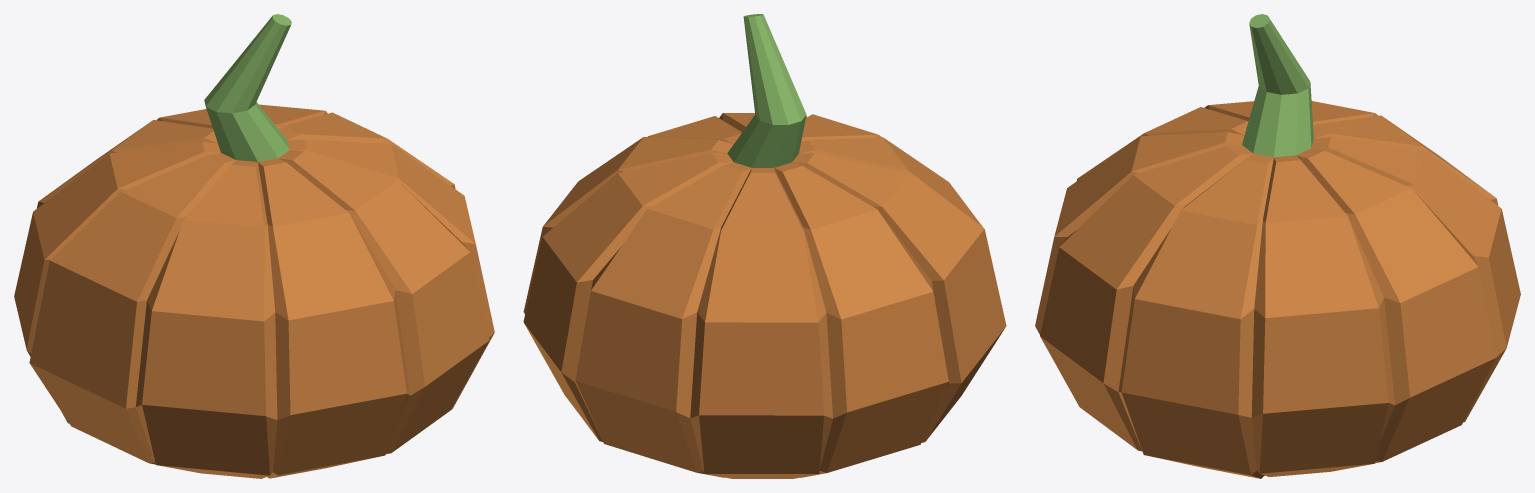
The model's file is pumpkin_crop.glb.
The picture shows the model from 3 angles, left to right: view 1: azimuth 30°, elevation 25°; view 2: azimuth 150°, elevation 25°; view 3: azimuth 270°, elevation 25°; orthographic projection. The views are drawn at different scales.
Visible parts, largest first — view 1: Pumpkin_Crop; view 2: Pumpkin_Crop; view 3: Pumpkin_Crop.
Part boxes in pixels (left/top/right/bottom): Pumpkin_Crop: left=14, top=14, right=494, bottom=478; Pumpkin_Crop: left=523, top=14, right=1006, bottom=478; Pumpkin_Crop: left=1035, top=14, right=1520, bottom=478.
Size of the model in its own units: 0.5875 by 0.5544 by 0.5781.
